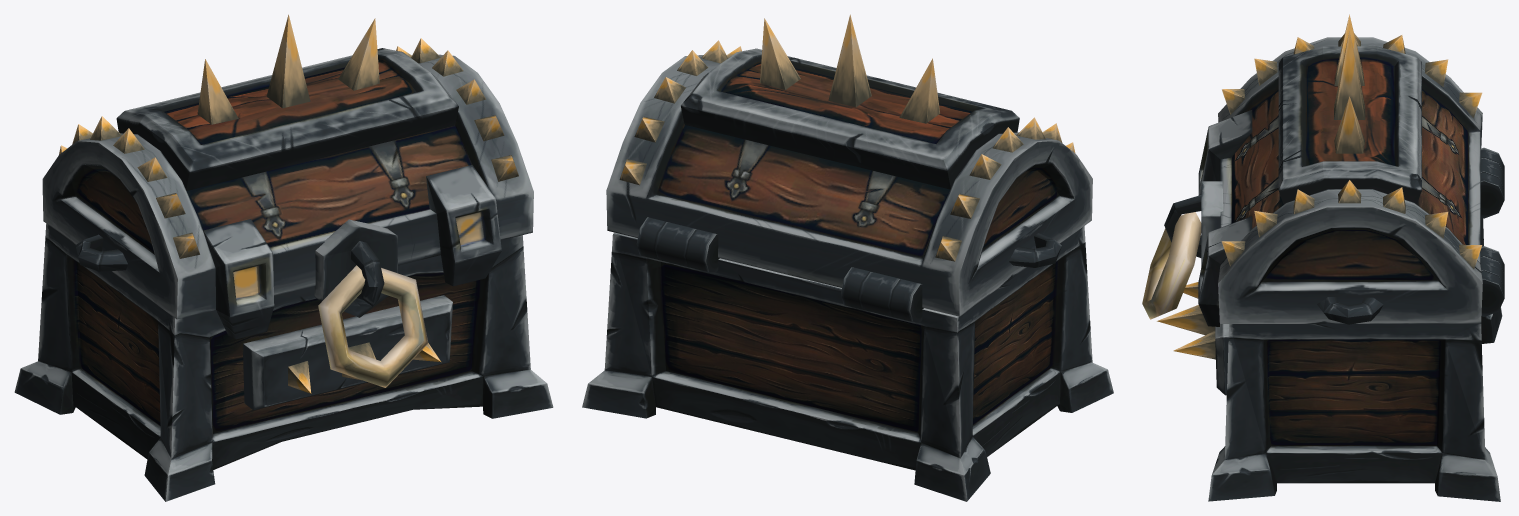
The model's file is chest_1_gems.FBX.
The picture shows the model from 3 angles, left to right: view 1: azimuth 30°, elevation 25°; view 2: azimuth 150°, elevation 25°; view 3: azimuth 270°, elevation 25°; orthographic projection. The views are drawn at different scales.
Visible parts, largest first — view 1: Chest_1_cap, Chest; view 2: Chest_1_cap, Chest; view 3: Chest_1_cap, Chest.
Part boxes in pixels (bbox=[...]): Chest_1_cap: bbox=[42, 14, 533, 387]; Chest: bbox=[14, 223, 553, 501]; Chest_1_cap: bbox=[606, 14, 1092, 316]; Chest: bbox=[582, 217, 1113, 501]; Chest_1_cap: bbox=[1142, 14, 1482, 326]; Chest: bbox=[1157, 147, 1504, 501].
Size of the model in its own units: 103 by 91.4 by 79.06.
